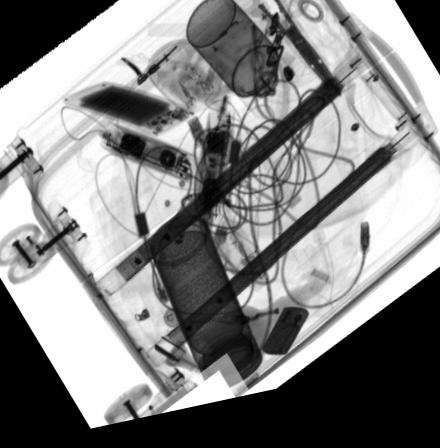Lighter: (260, 318, 308, 368)
Powerbank: (59, 84, 198, 146)
Scissors: (218, 0, 341, 111)
Sprayer: (183, 1, 299, 133)
